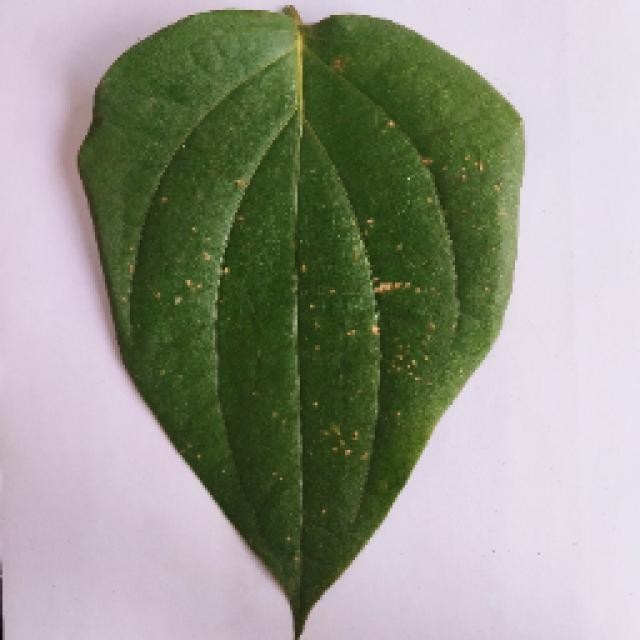pollu-disease: (35, 18, 557, 638)
